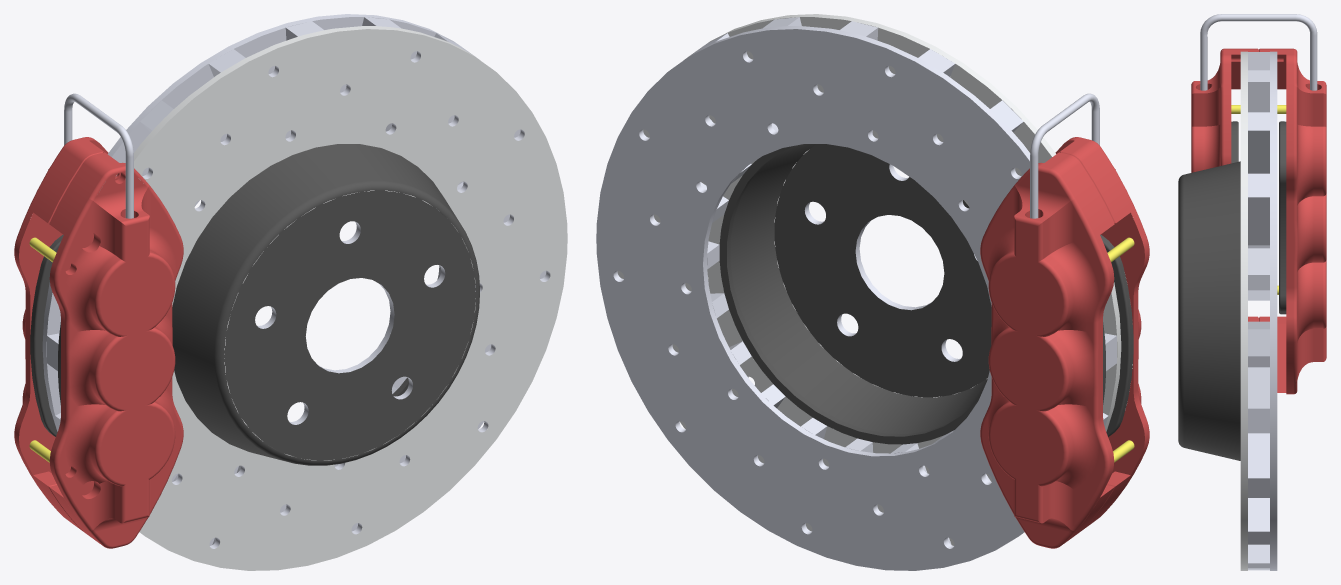
The model's file is mechanical_part.glb.
3 views of the same model, side by side, from view 1: azimuth 30°, elevation 25°; view 2: azimuth 150°, elevation 25°; view 3: azimuth 270°, elevation 25° (orthographic). The views are drawn at different scales.
Visible parts, largest first — view 1: Part1; view 2: Part1; view 3: Part1.
Part boxes in pixels (box(x1,y1,x2,y2)): Part1: box(14, 14, 567, 570); Part1: box(596, 14, 1149, 570); Part1: box(1178, 14, 1326, 570).
Size of the model in its own units: 0.2944 by 0.2839 by 0.081.
